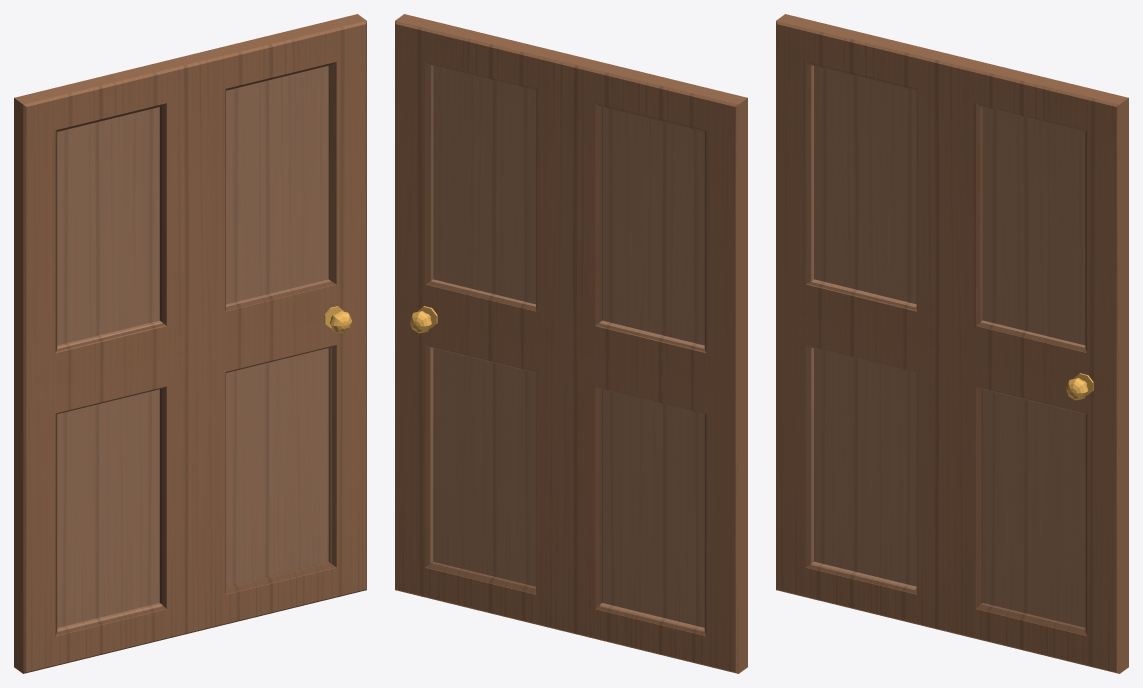
File: Door.fbx
The picture shows the model from 3 angles, left to right: view 1: azimuth 30°, elevation 25°; view 2: azimuth 150°, elevation 25°; view 3: azimuth 330°, elevation 25°; orthographic projection.
Parts seen in each view (by area): view 1: Door_120; view 2: Door_120; view 3: Door_120.
Part boxes in pixels (<box>): Door_120: <box>14,14,366,673</box>; Door_120: <box>395,14,747,673</box>; Door_120: <box>776,14,1128,673</box>.
Bounding box in the file's own units: 144 × 228 × 25.49.
1 material, 1 textured.
